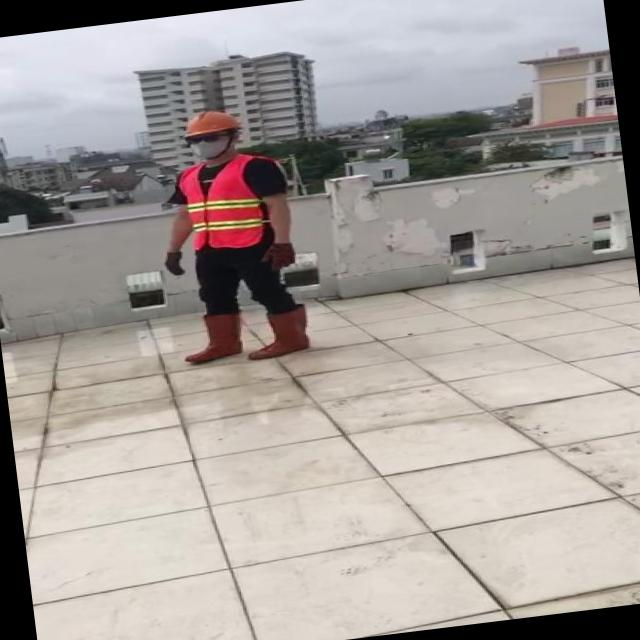boots: (244, 305, 315, 362), (182, 310, 248, 366)
helmet: (177, 107, 242, 138)
vest: (178, 158, 270, 254)
